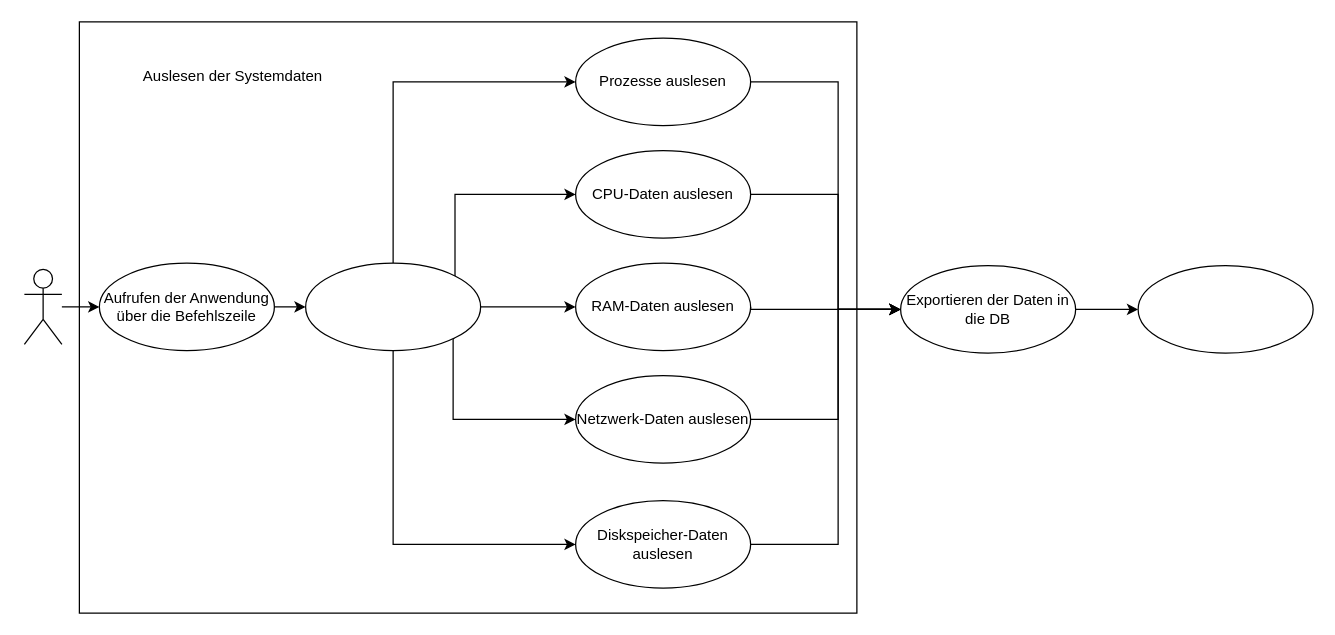
This 1335x635 diagram has some shape labels left out. The box of each missing label's shape, as (x1, y1, x2, y2) in pixels:
Admin: (23, 268, 62, 344)
Auslesen der Betriebssystemversion: (304, 262, 481, 351)
Dashboard anzeigen: (1137, 264, 1313, 353)
